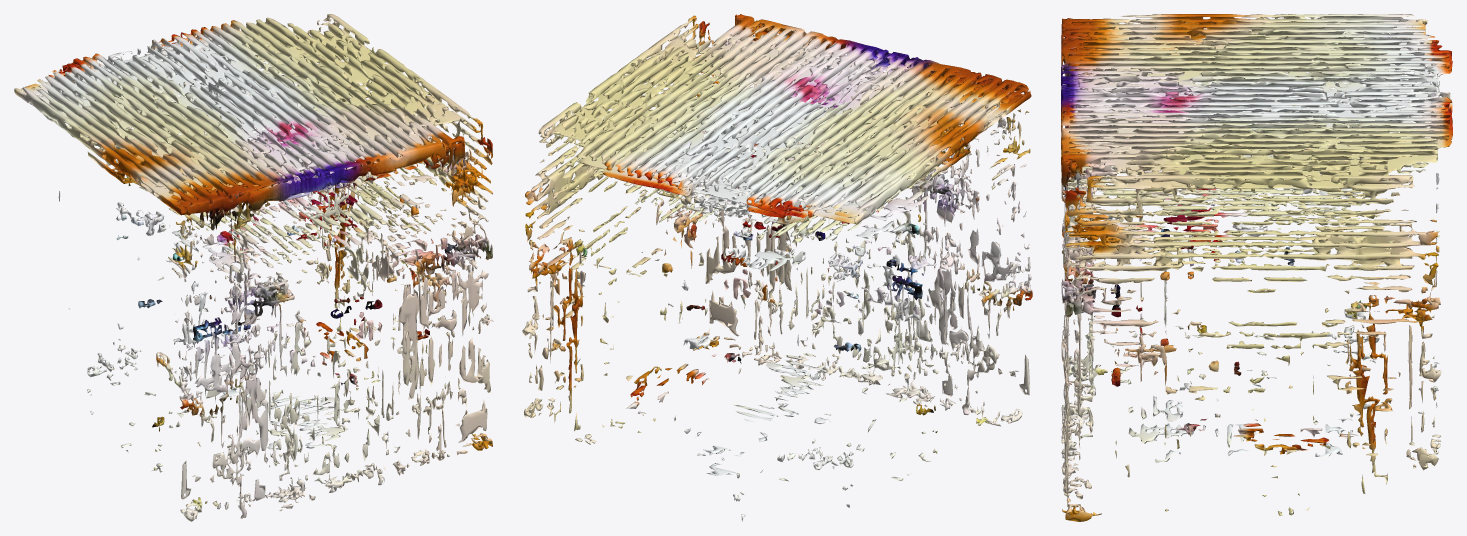
Rendered from workshop_toolrack.glb.
3 renders of one model, left to right at view 1: azimuth 30°, elevation 25°; view 2: azimuth 150°, elevation 25°; view 3: azimuth 270°, elevation 25°, orthographic. The views are drawn at different scales.
Visible parts, largest first — view 1: world; view 2: world; view 3: world.
Part boxes in pixels (bbox=[...]): world: bbox=[14, 14, 493, 521]; world: bbox=[522, 14, 1032, 521]; world: bbox=[1061, 14, 1452, 521].
Bounding box in the file's own units: 0.9927 × 0.9988 × 0.9958.
1 material, 1 textured.
